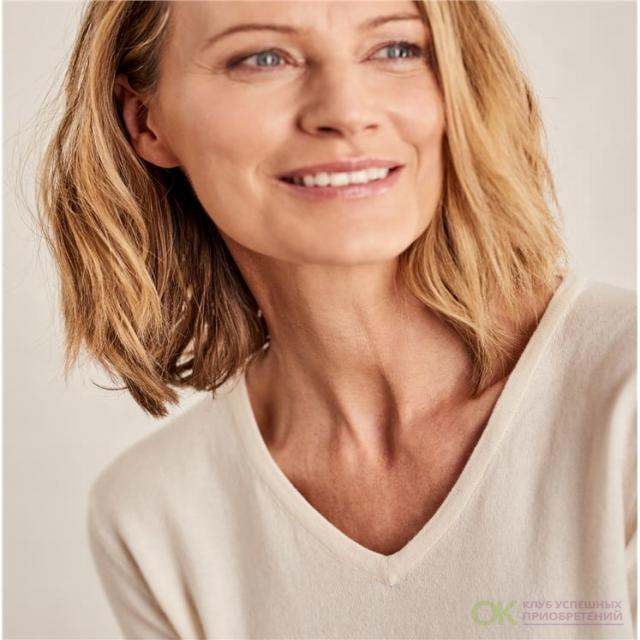earlobe: (142, 137, 182, 170)
eye: (230, 46, 300, 73), (364, 40, 427, 63)
nose: (306, 123, 394, 153)
wholeear: (108, 74, 183, 170)
